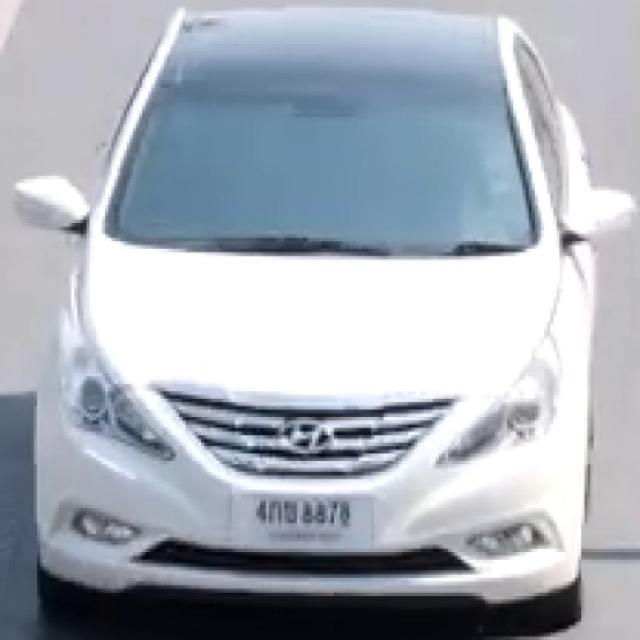plate: (231, 488, 378, 555)
